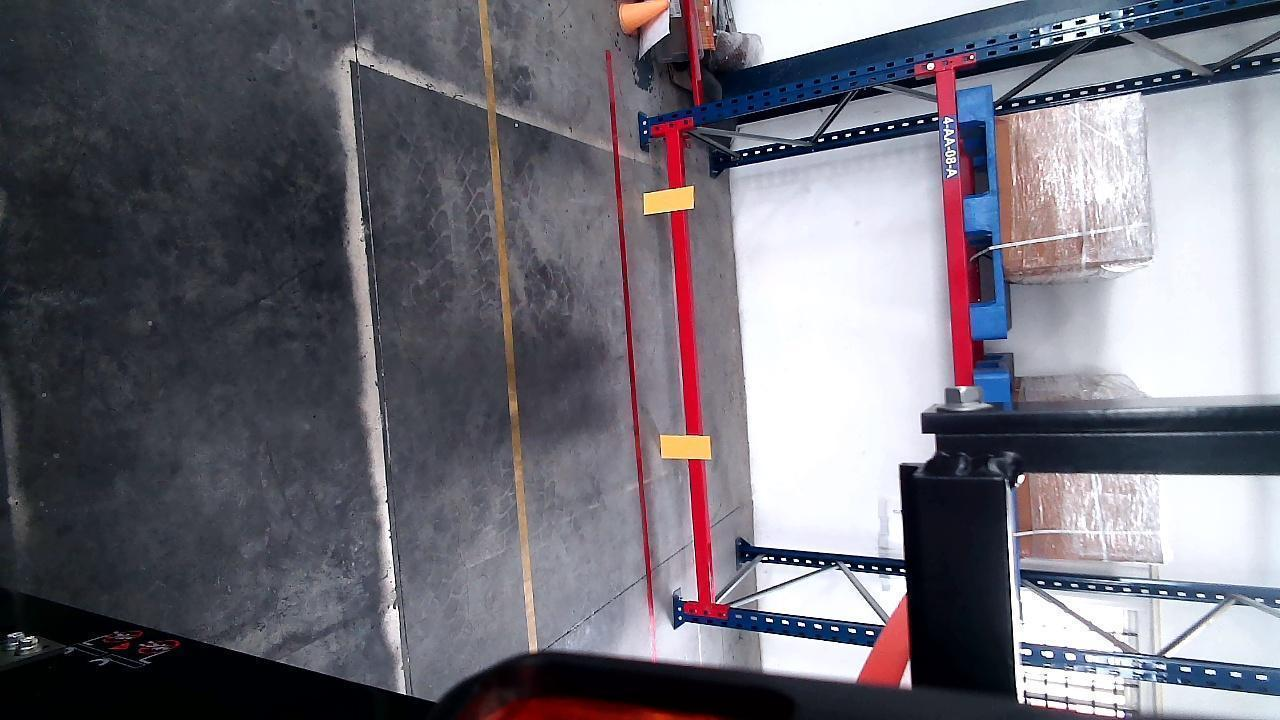red_line: (602, 43, 659, 650)
